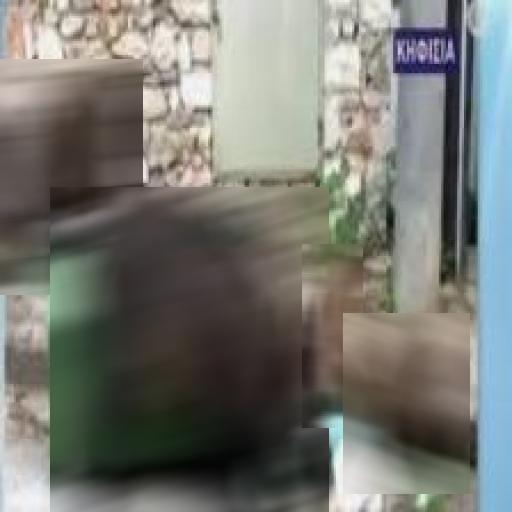Pig: (50, 187, 329, 512), (0, 59, 143, 295), (343, 313, 470, 494), (302, 244, 363, 428)
